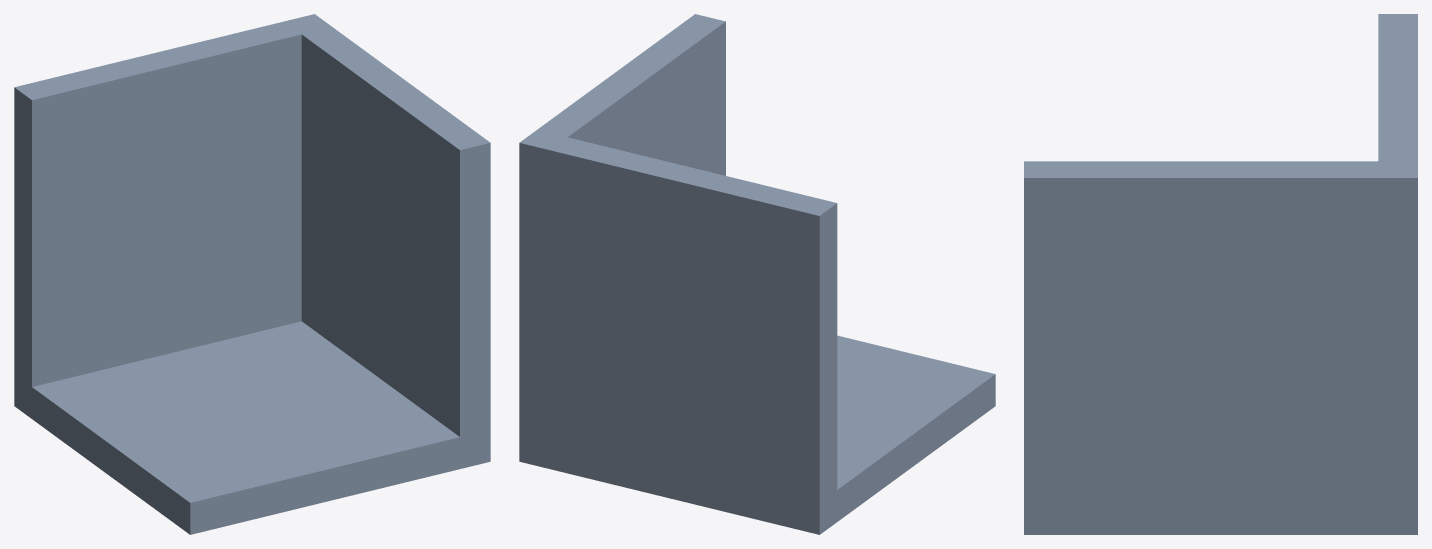
The model's file is Room-WarRoom.glb.
3 views of the same model, side by side, from view 1: azimuth 30°, elevation 25°; view 2: azimuth 150°, elevation 25°; view 3: azimuth 270°, elevation 25° (orthographic). The views are drawn at different scales.
Visible parts, largest first — view 1: ROOM; view 2: ROOM; view 3: ROOM.
Boxes of the visible parts, x1=… form: ROOM: x1=14, y1=14, x2=490, y2=534; ROOM: x1=519, y1=14, x2=995, y2=534; ROOM: x1=1024, y1=14, x2=1417, y2=534.
Size of the model in its own units: 4.52 by 4.58 by 4.58.
Materials: 1 (1 with a texture image).
